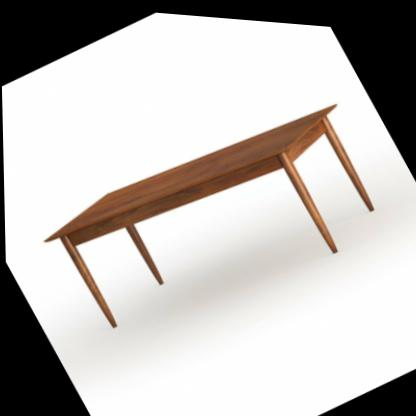Table: (12, 43, 412, 392)
